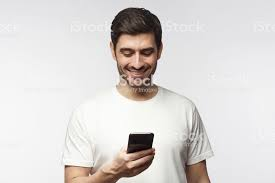white_male: (110, 25, 166, 87)
